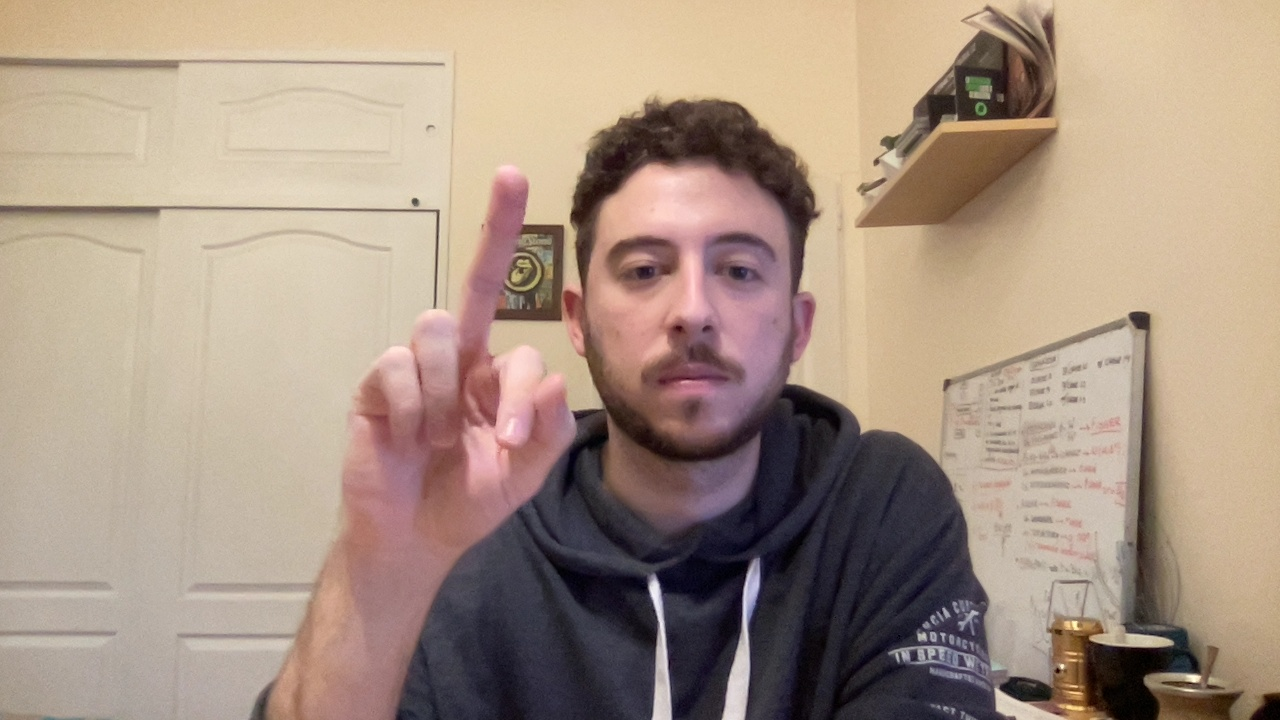mayor: (305, 164, 588, 560)
